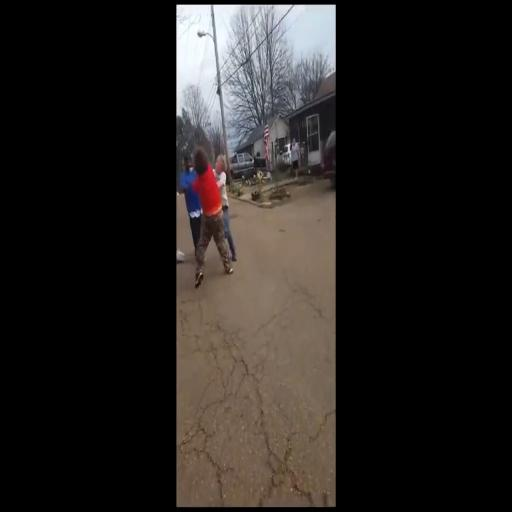violencia: (178, 133, 246, 295)
